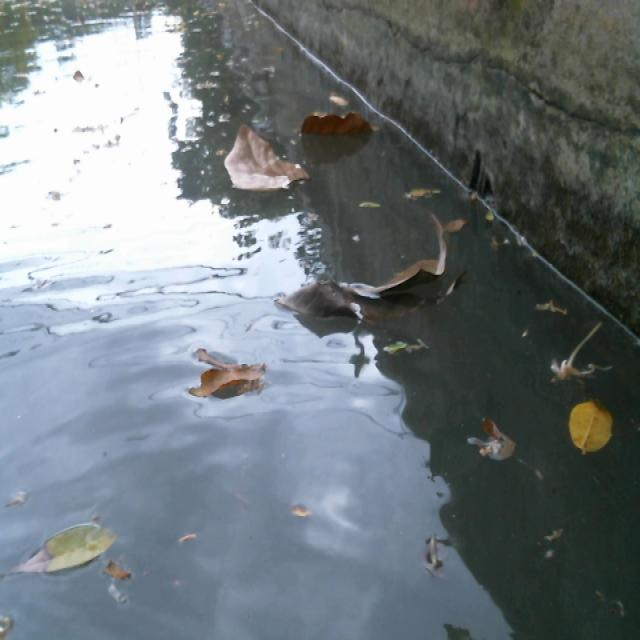Big-leaf: (275, 214, 463, 339), (175, 344, 279, 418), (215, 129, 311, 204), (297, 107, 385, 150)
Small-leaf: (12, 503, 114, 597), (563, 402, 622, 469), (470, 406, 528, 470), (371, 324, 441, 367), (417, 527, 458, 586), (401, 174, 445, 210), (522, 285, 562, 318), (101, 565, 142, 595), (343, 186, 381, 216), (316, 90, 357, 115), (162, 524, 206, 547), (287, 497, 325, 520), (445, 208, 468, 231)
